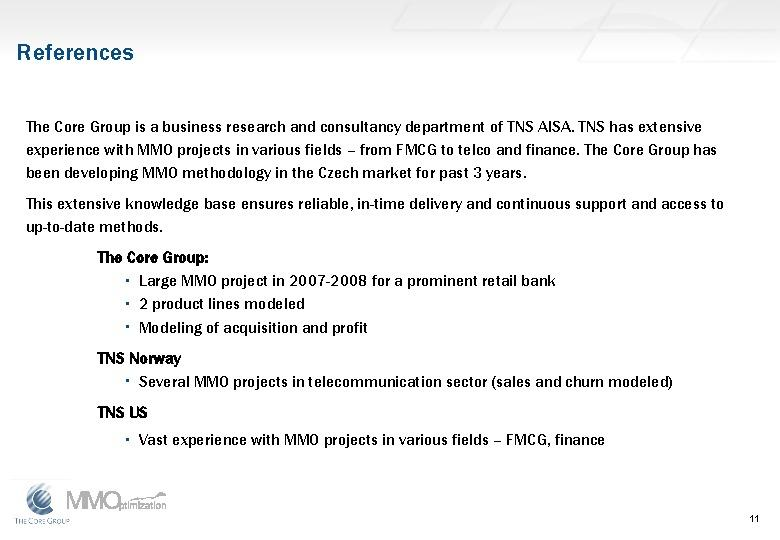paragraph: (24, 105, 752, 473)
subtitle: (98, 243, 221, 271), (89, 342, 193, 373), (90, 397, 167, 425)
title: (11, 31, 149, 84)
